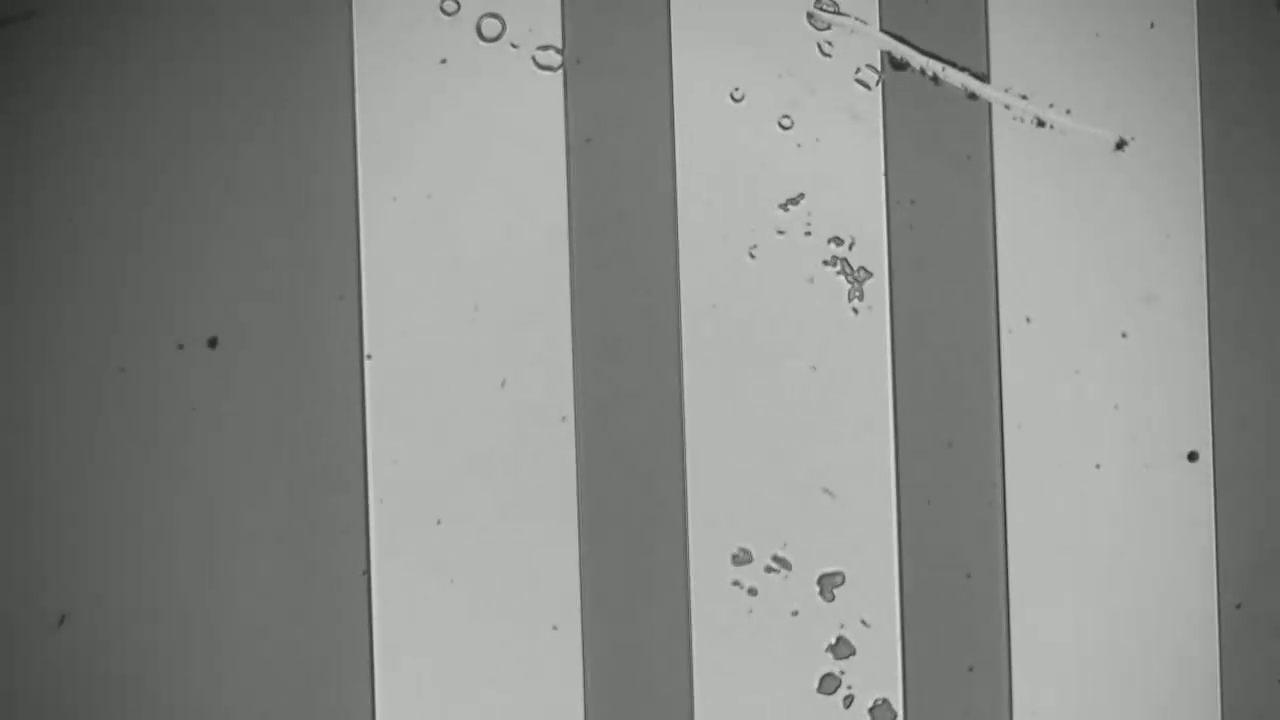Short_circuit: (867, 8, 1014, 124)
